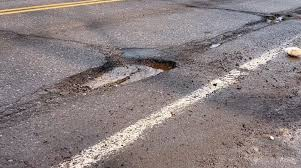Pothole: (67, 53, 180, 90)
